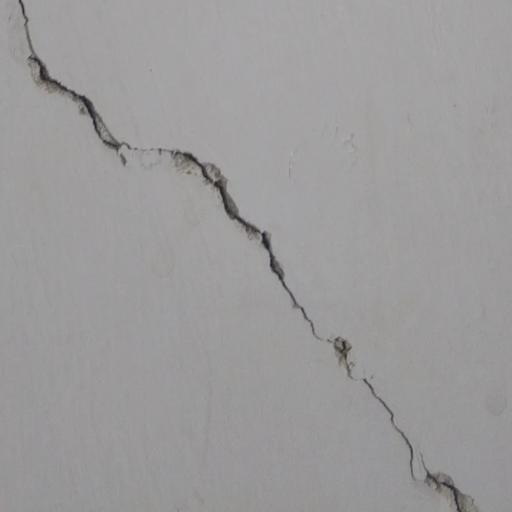major_crack: (10, 0, 485, 512)
